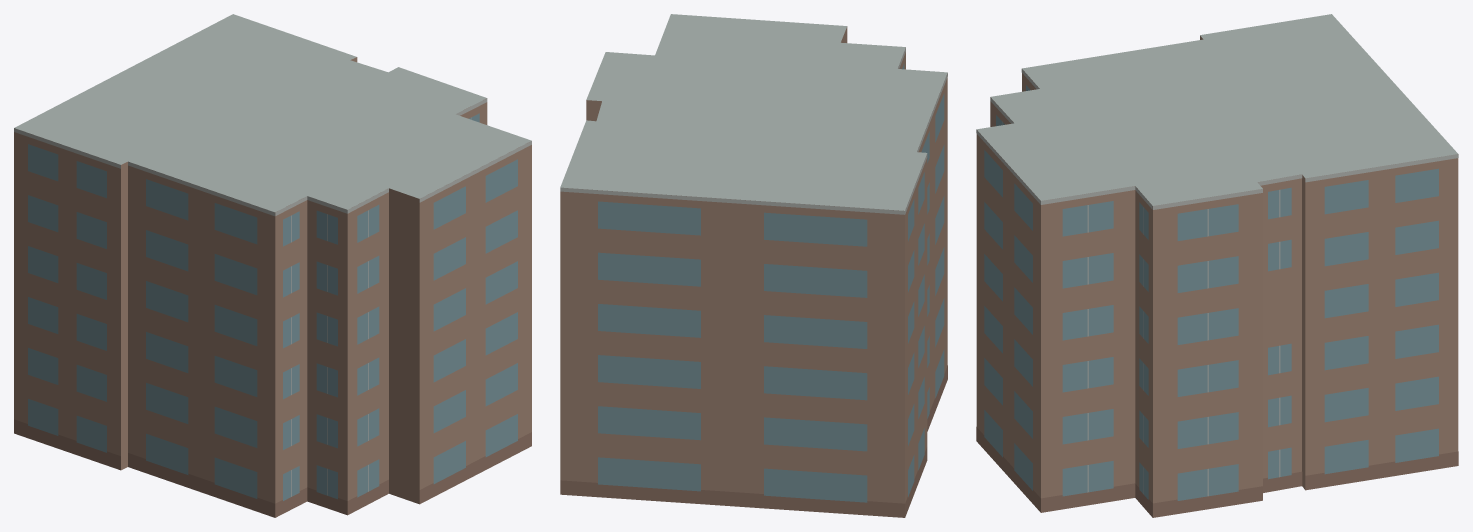
File: survey-upis-32937664.glb
3 views of the same model, side by side, from view 1: azimuth 30°, elevation 25°; view 2: azimuth 150°, elevation 25°; view 3: azimuth 270°, elevation 25° (orthographic). The views are drawn at different scales.
Parts seen in each view (by area): view 1: survey-upis-32937664.tmp; view 2: survey-upis-32937664.tmp; view 3: survey-upis-32937664.tmp.
Part boxes in pixels (x1=…): survey-upis-32937664.tmp: x1=14, y1=14, x2=531, y2=517; survey-upis-32937664.tmp: x1=560, y1=14, x2=947, y2=517; survey-upis-32937664.tmp: x1=976, y1=14, x2=1458, y2=517.
Size of the model in its own units: 24.84 by 18.8 by 26.34.
